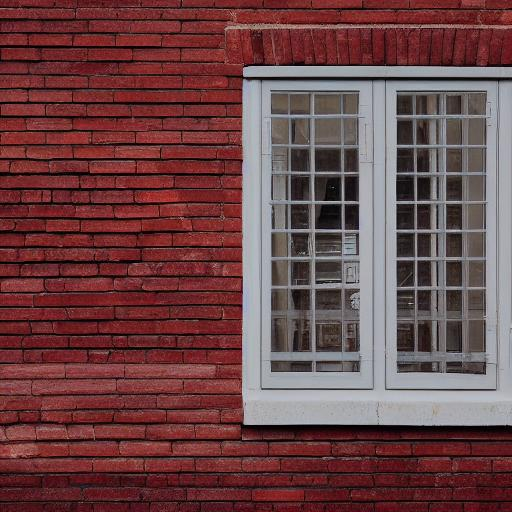Window: (221, 24, 512, 432)
